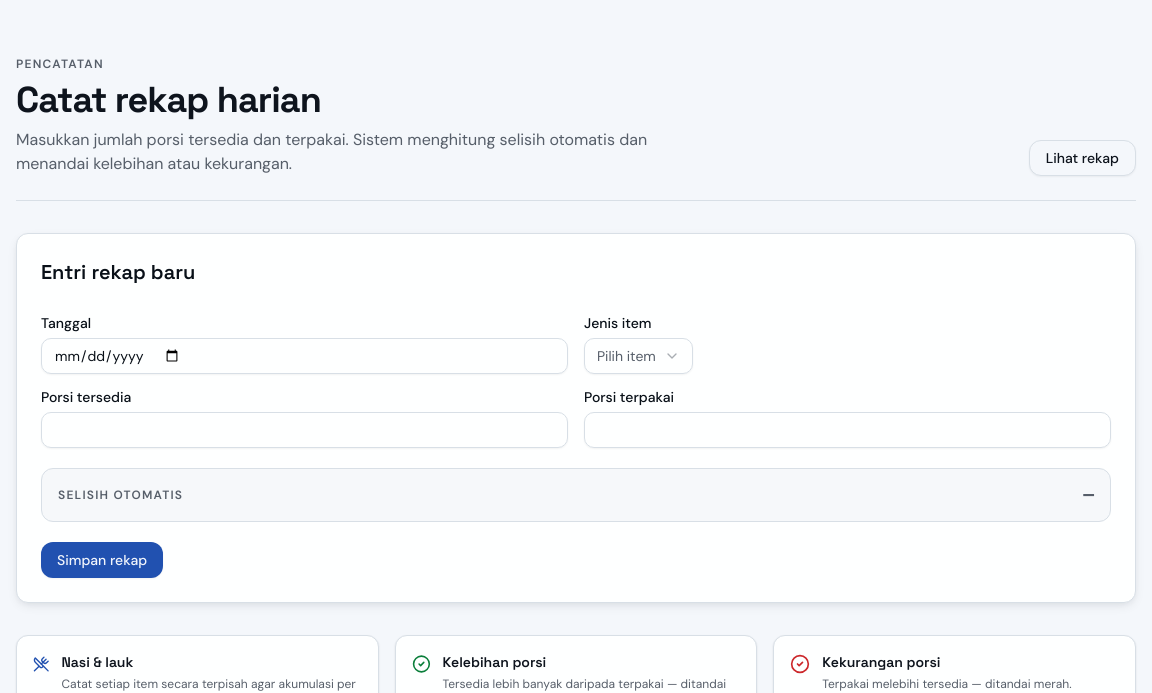
Test case: CatatPage › validates that date and positive amounts are required
Expected: the number field labelled "Porsi tersedia" is shown, [41,412,568,448]
Click the button "Simpan rekap": point(102, 560) [41,542,163,578]
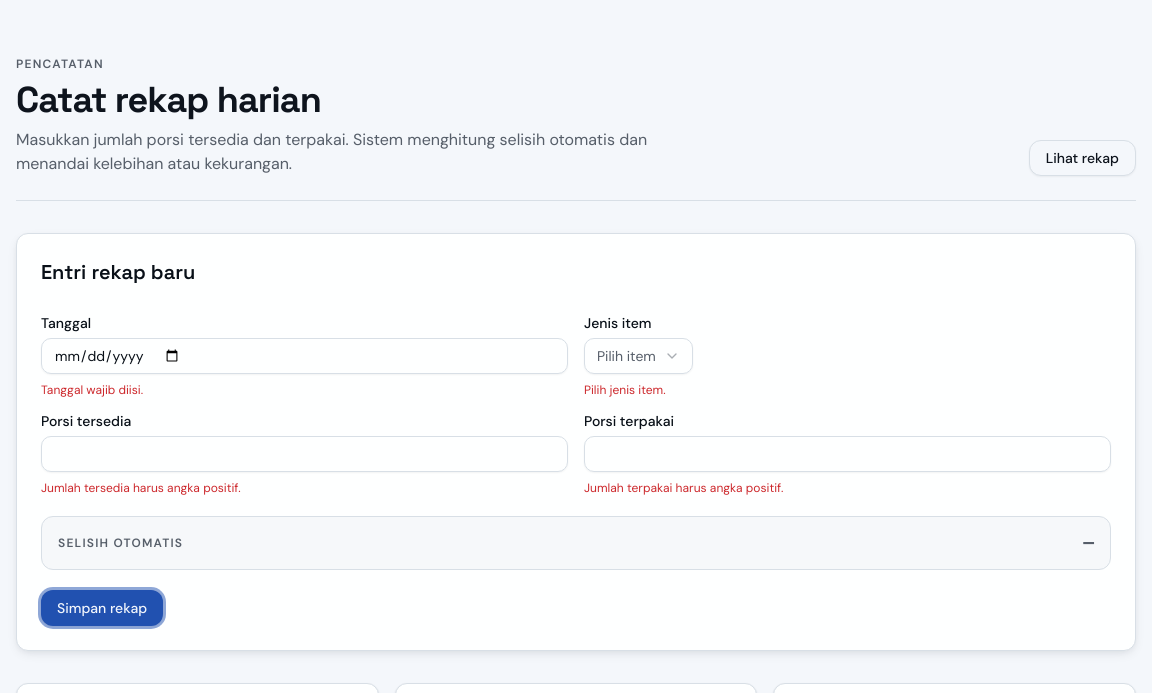
Expected: the text "Tanggal wajib diisi." is shown, [41,382,143,398]
Expected: the text "Pilih jenis item." is shown, [584,382,666,398]
Expected: the text "Jumlah tersedia harus angka positif." is shown, [41,480,241,496]
